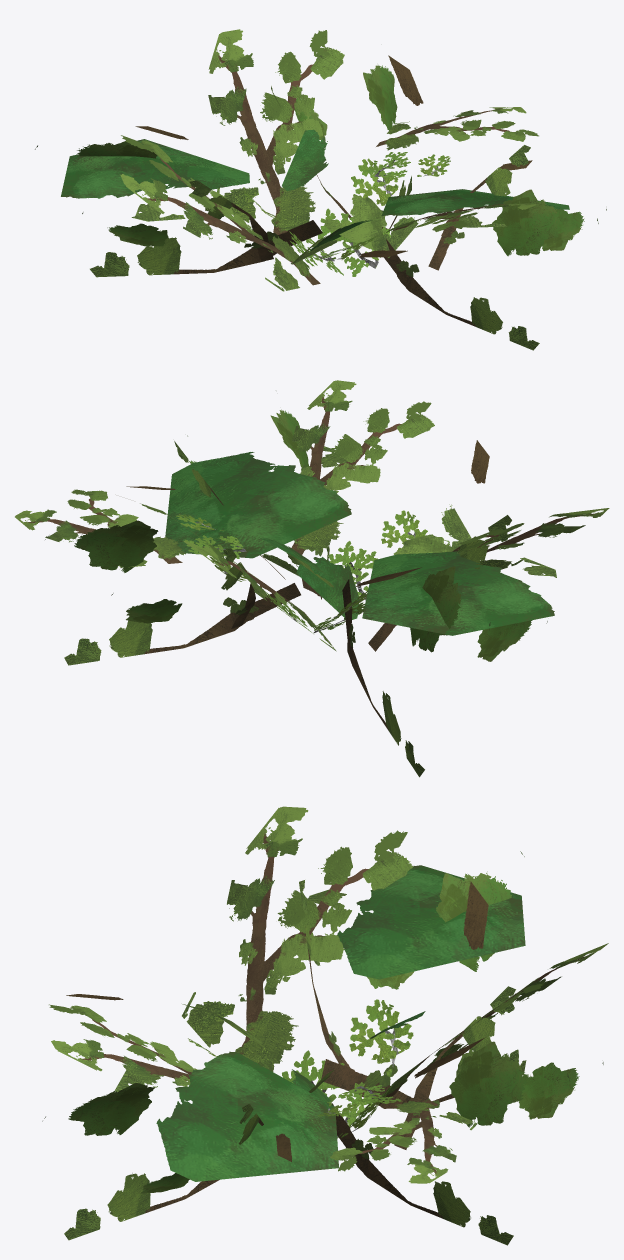
File: Buisson_001.fbx
3 renders of one model, top to bottom at view 1: azimuth 30°, elevation 25°; view 2: azimuth 150°, elevation 25°; view 3: azimuth 270°, elevation 25°, orthographic. The views are drawn at different scales.
Visible parts, largest first — view 1: Buisson_001; view 2: Buisson_001; view 3: Buisson_001.
Boxes of the visible parts, x1=… form: Buisson_001: x1=35, y1=29, x2=606, y2=350; Buisson_001: x1=15, y1=380, x2=609, y2=777; Buisson_001: x1=42, y1=806, x2=608, y2=1245.
Size of the model in its own units: 4.66 by 1.92 by 4.06.
